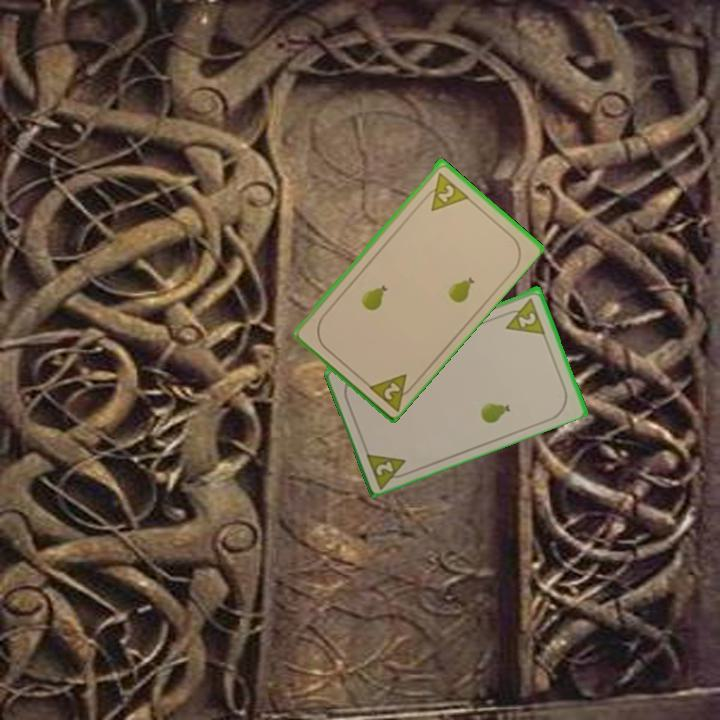2p: (419, 167, 470, 214), (362, 447, 414, 490), (498, 294, 548, 337), (380, 378, 403, 403)
